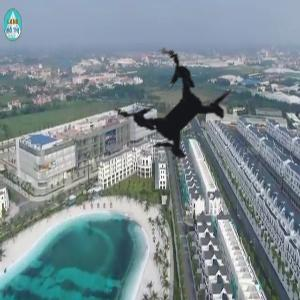drone: (80, 16, 270, 206)
